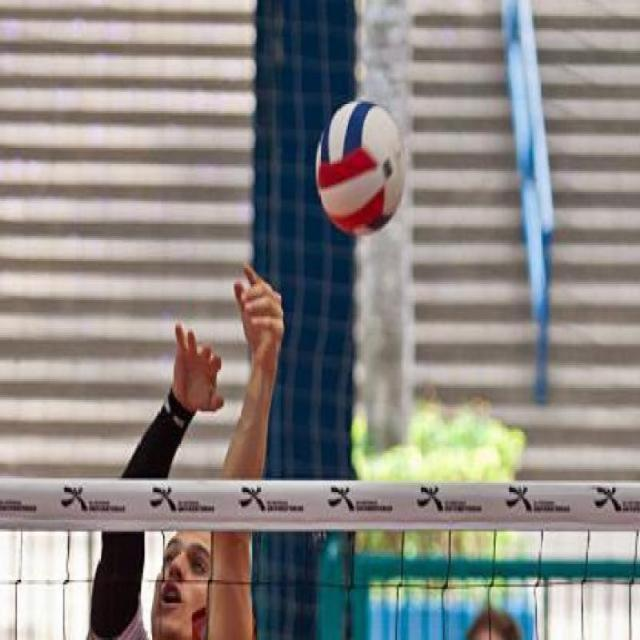volleyball: (315, 97, 410, 238), (314, 97, 406, 236)
